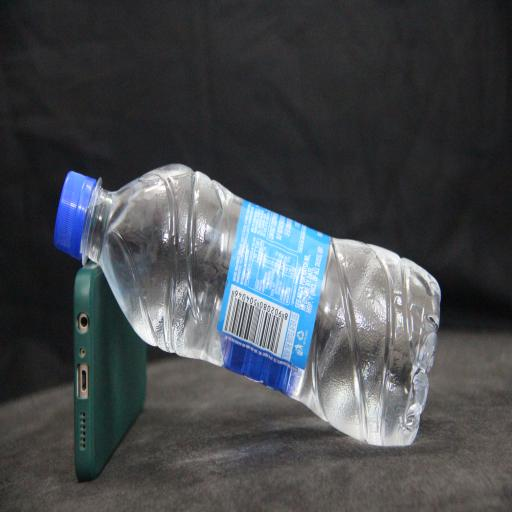Aquafina: (54, 164, 440, 446)
